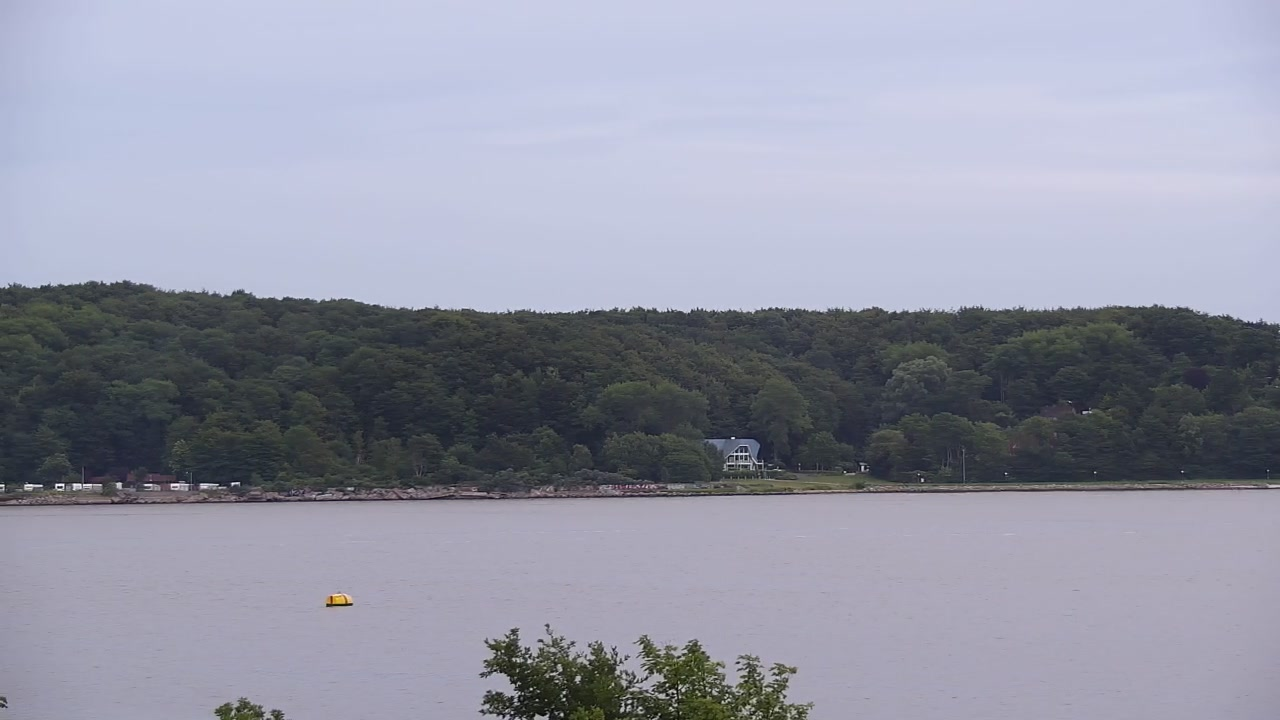land: (142, 482, 162, 492), (199, 483, 221, 492), (22, 483, 46, 491), (170, 483, 190, 492), (82, 484, 104, 492), (65, 482, 82, 492), (54, 481, 65, 492)
